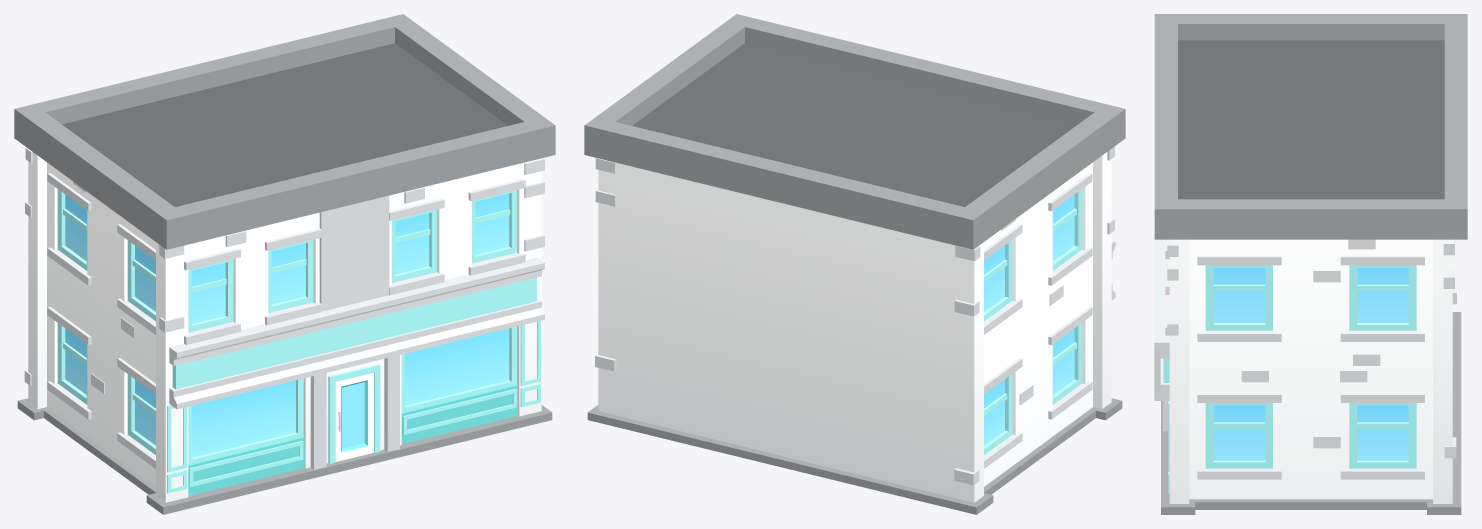
File: Building_Living_26.glb
3 views of the same model, side by side, from view 1: azimuth 30°, elevation 25°; view 2: azimuth 150°, elevation 25°; view 3: azimuth 270°, elevation 25° (orthographic). The views are drawn at different scales.
Visible parts, largest first — view 1: Building_Living_26; view 2: Building_Living_26; view 3: Building_Living_26.
Part boxes in pixels (x1,y1,x2,y2): Building_Living_26: (14, 14, 555, 514); Building_Living_26: (584, 14, 1125, 514); Building_Living_26: (1154, 14, 1467, 514).
Size of the model in its own units: 10.86 by 7.92 by 7.37.
Materials: 1 (1 with a texture image).
